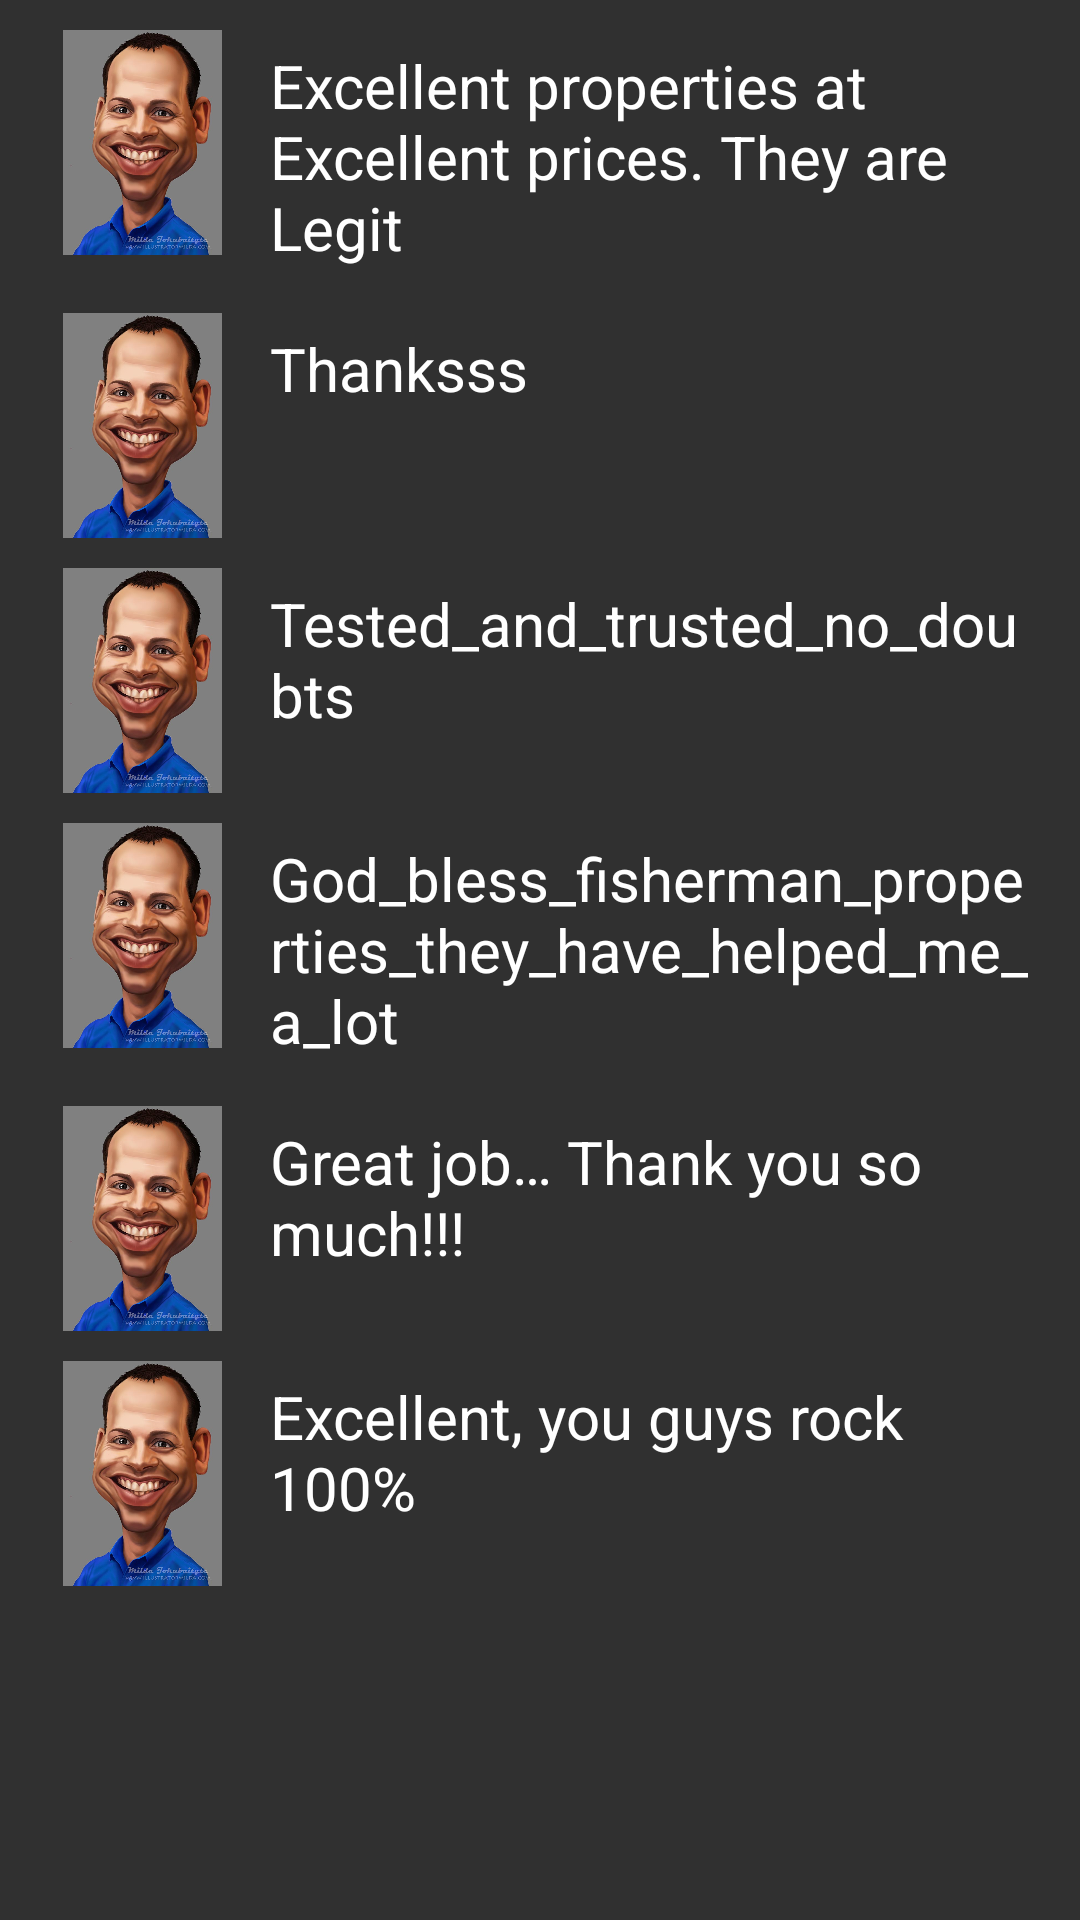

Where to tap for icons on this 1080x1920 app screen, as [x,y]:
profile: [142,142], [142,425], [142,680], [142,935], [142,1218], [142,1473]
